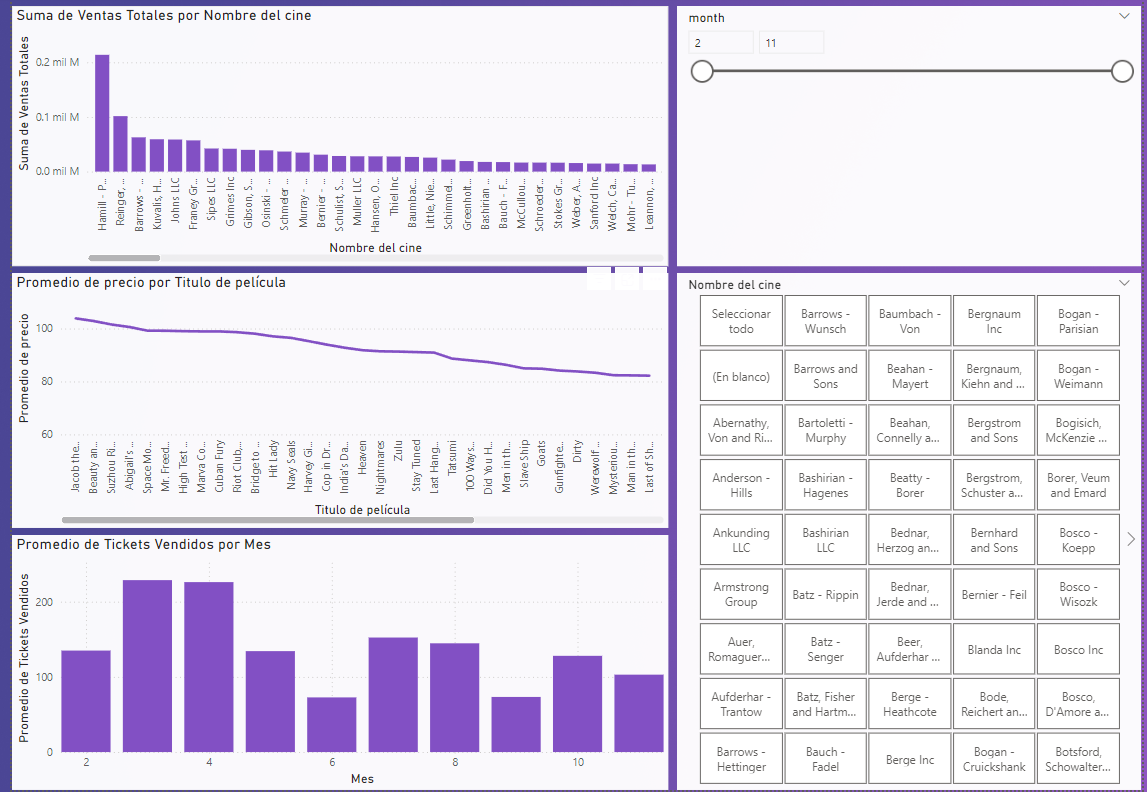

The dashboard page shown, as its layout file describes it:
{"tool":"powerbi","page":{"name":"Ventas y Finanzas","canvas":[1280,900],"ordinal":1},"visuals":[{"type":"columnChart","fields":{"Category":["cinemas.name"],"Y":["tickets.Suma de Ventas Totales"]},"box":[0,11.3,743.6,294.7],"z":0},{"type":"lineChart","fields":{"Category":["films.title"],"Y":["tickets.Promedio de precio"]},"box":[0,314,743.6,289],"z":1000},{"type":"clusteredColumnChart","fields":{"Category":["tickets.month"],"Y":["tickets.Promedio de Tickets Vendidos"]},"box":[0,611,743.6,289],"z":2000},{"type":"slicer","fields":{"Values":["tickets.month"]},"box":[754,11,526,295],"z":3000},{"type":"slicer","fields":{"Values":["cinemas.name"]},"box":[753.8,314,525.9,586],"z":4000}]}

Visuals, with their boxes in screenshot pixels (x1, y1, x2, y2), scaled from the page's 1280x900 canvas onto the 1147x792 screenshot:
columnChart - cinemas.name x tickets.Suma de Ventas Totales: box(0, 10, 666, 269)
lineChart - films.title x tickets.Promedio de precio: box(0, 276, 666, 531)
clusteredColumnChart - tickets.month x tickets.Promedio de Tickets Vendidos: box(0, 538, 666, 791)
slicer - tickets.month: box(676, 10, 1146, 269)
slicer - cinemas.name: box(675, 276, 1146, 791)
